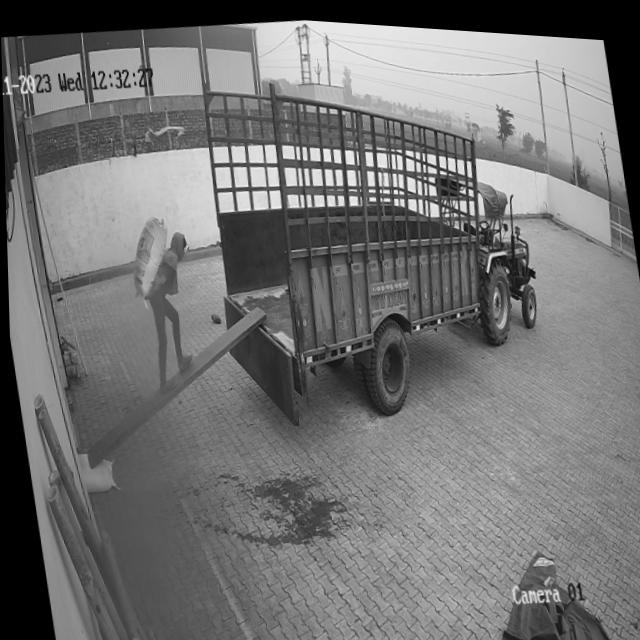sack: (121, 210, 176, 303), (73, 447, 113, 494)
